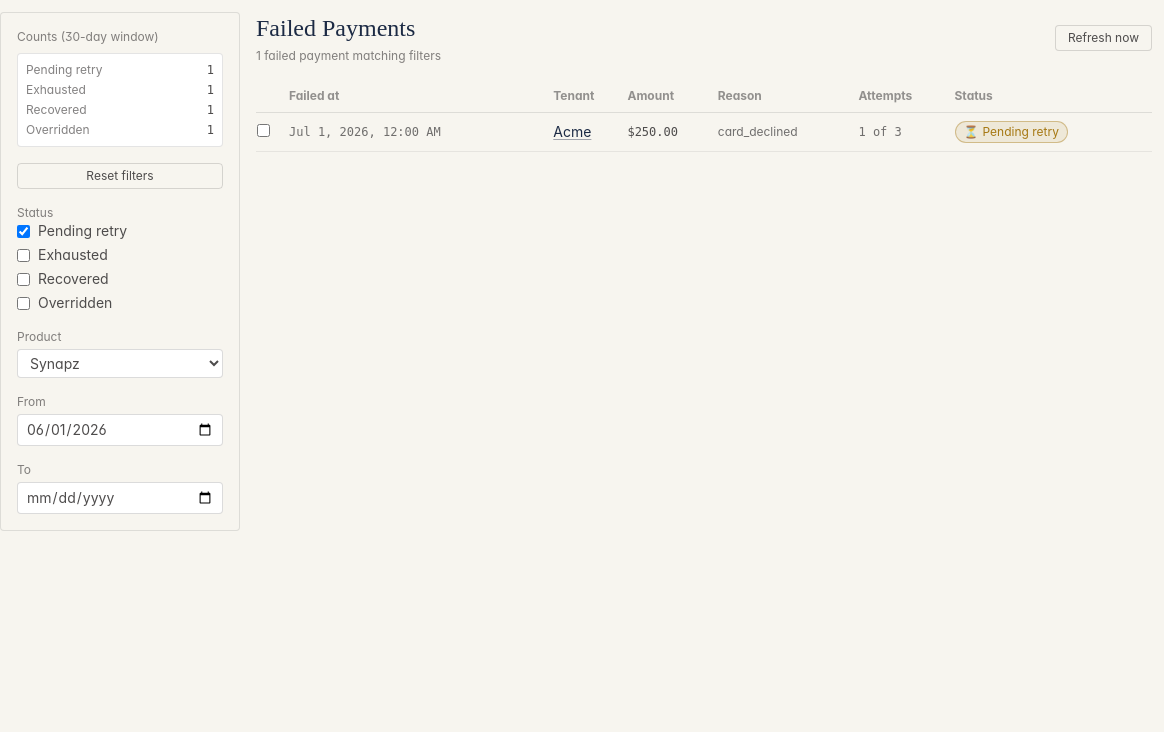
Test: FailedPaymentsFilters — sidebar (HUB-1688) › Reset button clears all filters + strips query params
The width and height of the screenshot is (1164, 732).
Click the button with test id "failed-payments-reset": (120,176) [17, 163, 223, 189]
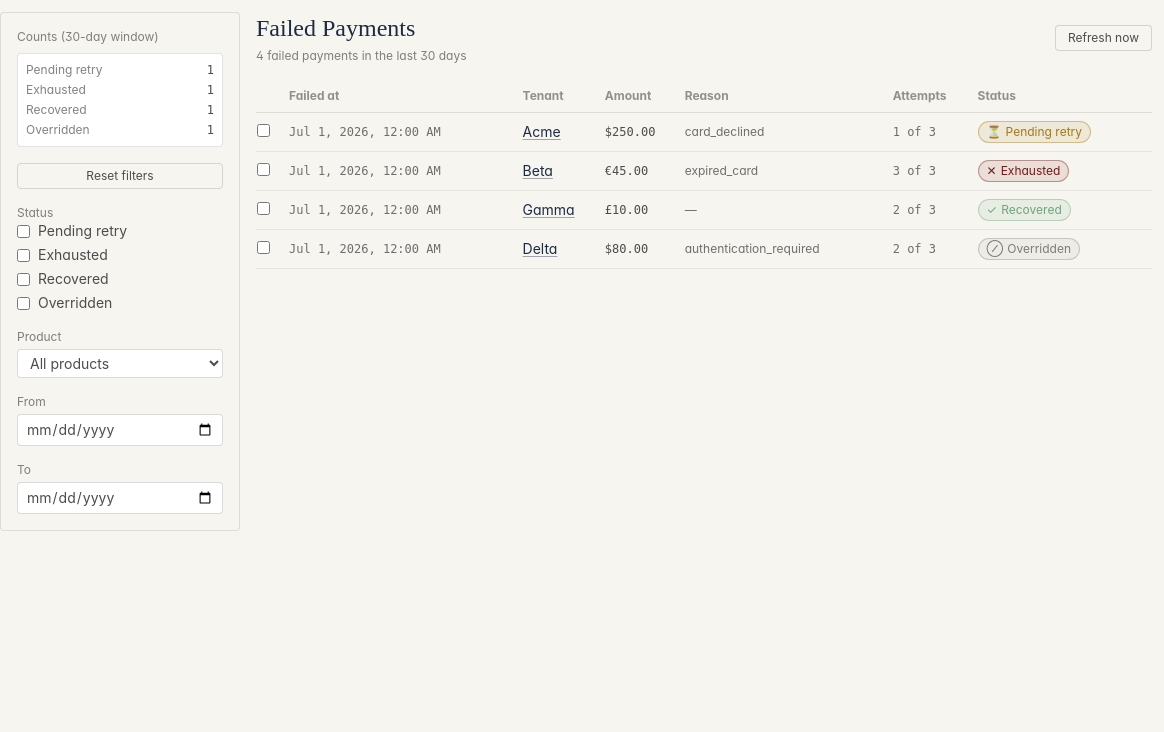
Now the checkbox with test id "failed-payments-filter-status-pending_retry" is not checked, box [17, 224, 30, 238]
Now the dropdown with test id "failed-payments-filter-product" shows "All products", box [17, 349, 223, 378]
